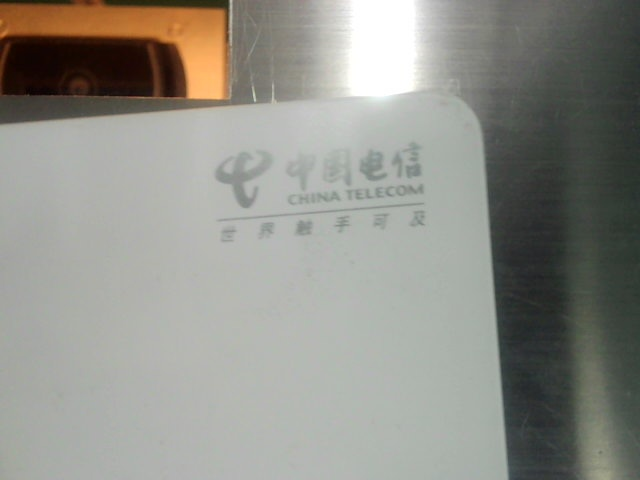AB_ChinaTelecom: (202, 140, 437, 245)
